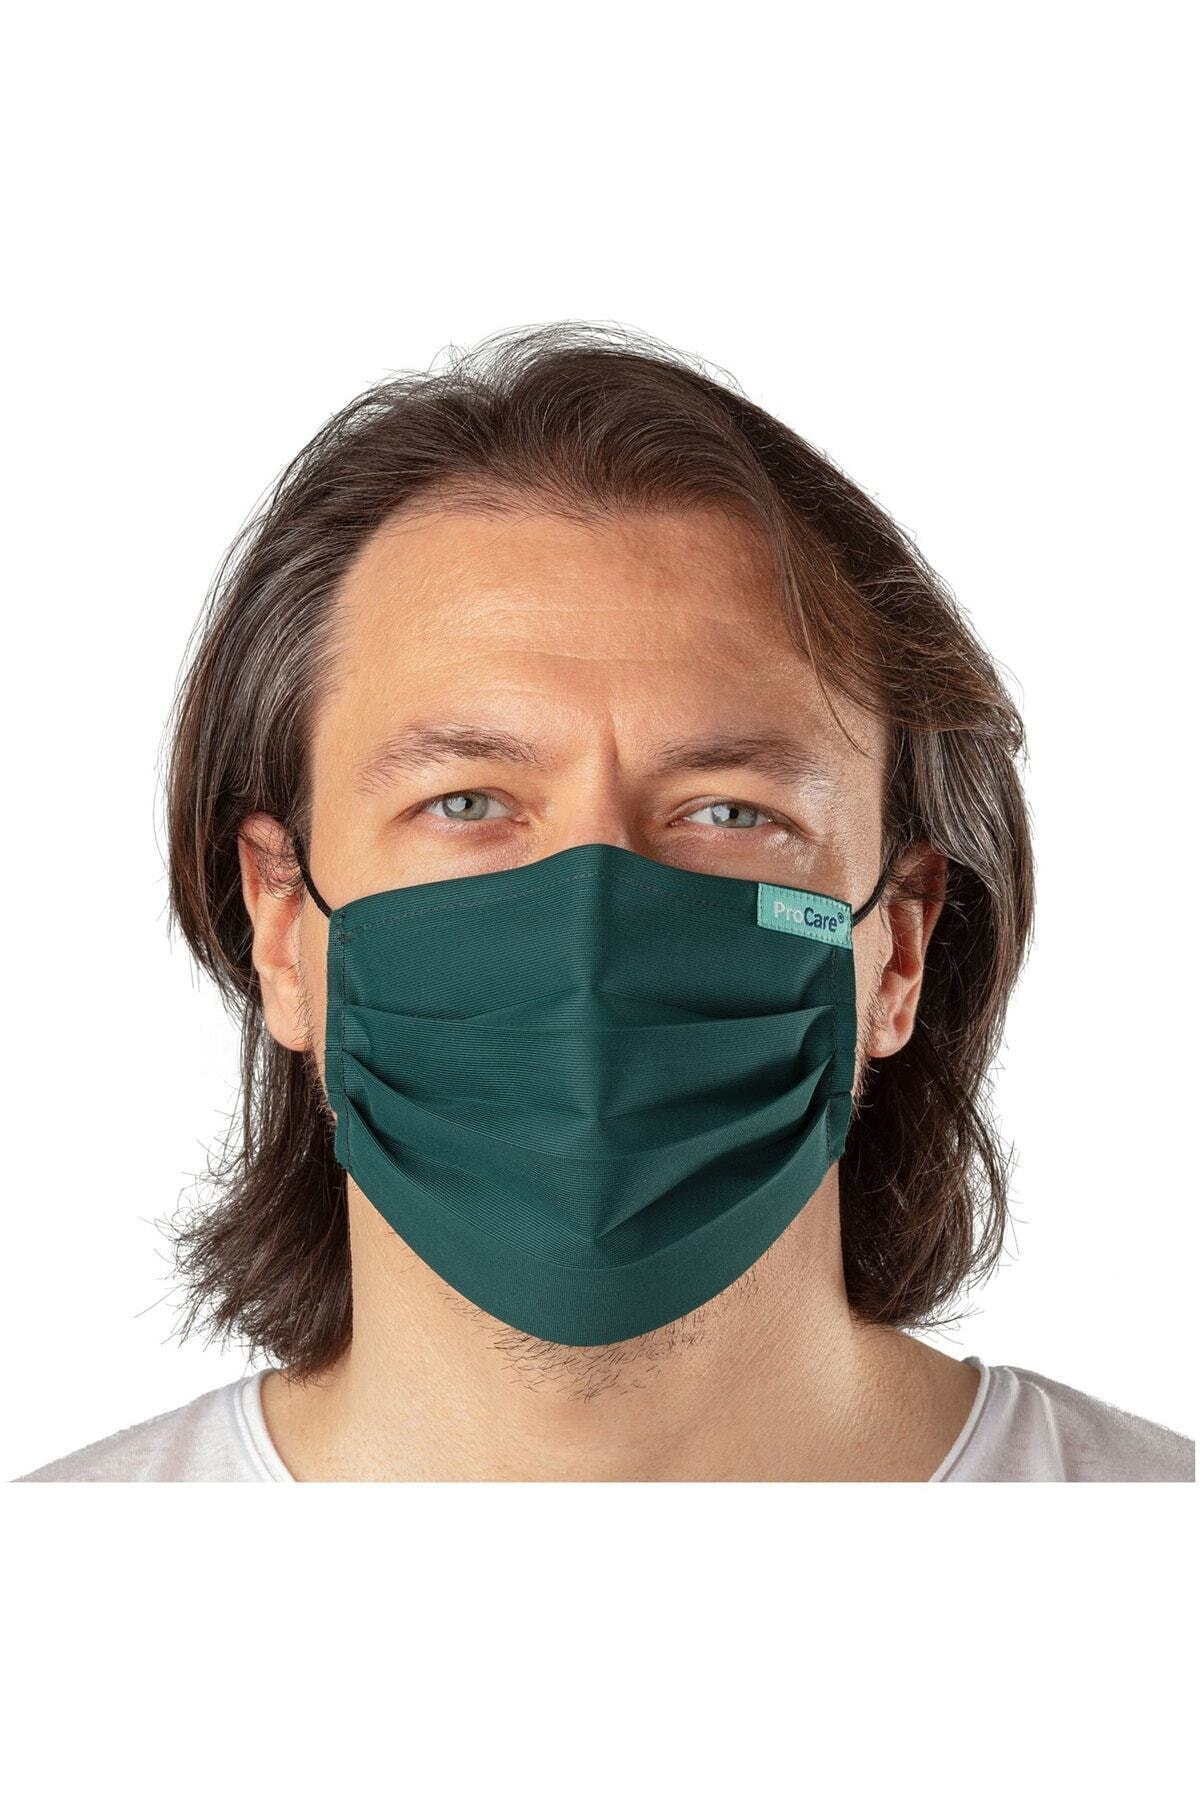maske: (275, 822, 917, 1387)
